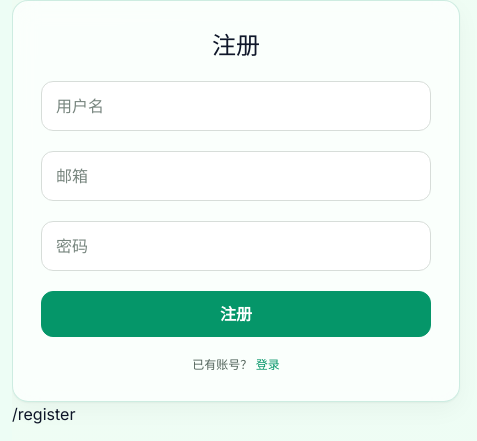
Test: RegisterPage › StrictMode 重放后成功注册导航到文件页
This screenshot has width=477, height=441.
Type "testuser" into the field labelled "用户名" at (236, 106), box [41, 81, 431, 131]
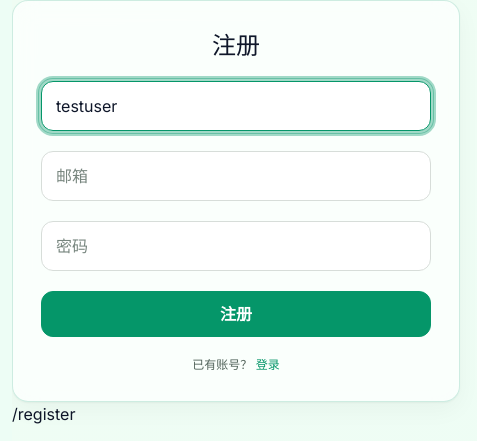
Type "user@example.com" into the field labelled "邮箱" at (236, 176), box [41, 151, 431, 201]
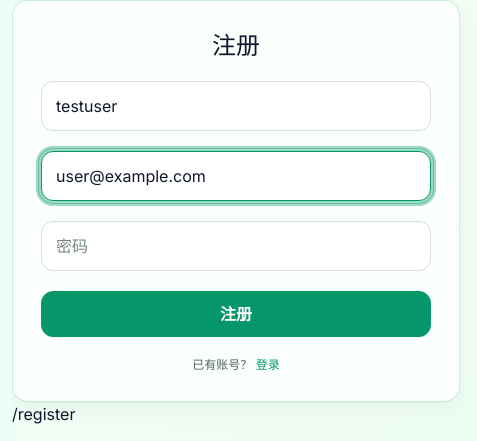
Type "123456" into the password field labelled "密码" at (236, 246), box [41, 221, 431, 271]
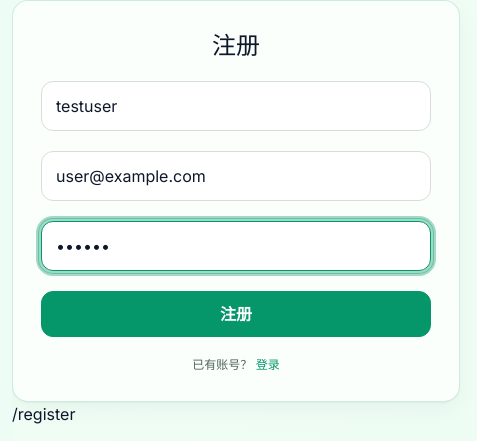
Click the button "注册" at (236, 314), box [41, 291, 431, 337]
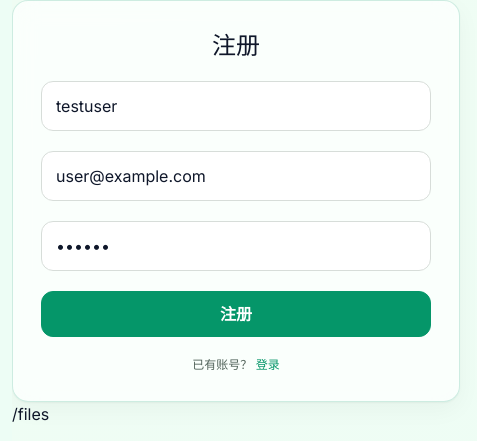
Expected: the text with test id "location" reads "/files", [12, 404, 49, 424]
